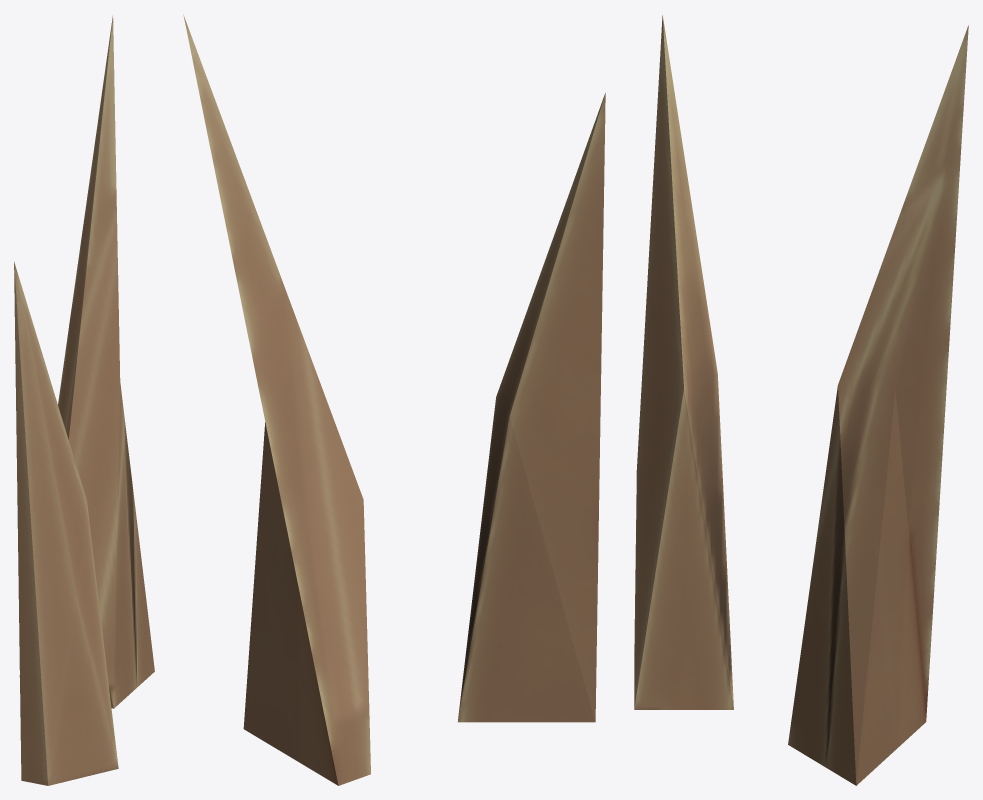
File: Grass_3.fbx
3 views of the same model, side by side, from view 1: azimuth 30°, elevation 25°; view 2: azimuth 150°, elevation 25°; view 3: azimuth 270°, elevation 25° (orthographic). The views are drawn at different scales.
Parts seen in each view (by area): view 1: Grass_3; view 2: Grass_3; view 3: Grass_3.
Boxes of the visible parts, x1,y1,x2,y2 form: Grass_3: (14,16,154,785); Grass_3: (183,14,605,785); Grass_3: (634,15,968,785).
Size of the model in its own units: 8.57 by 9.04 by 22.79.
1 material, 1 textured.
